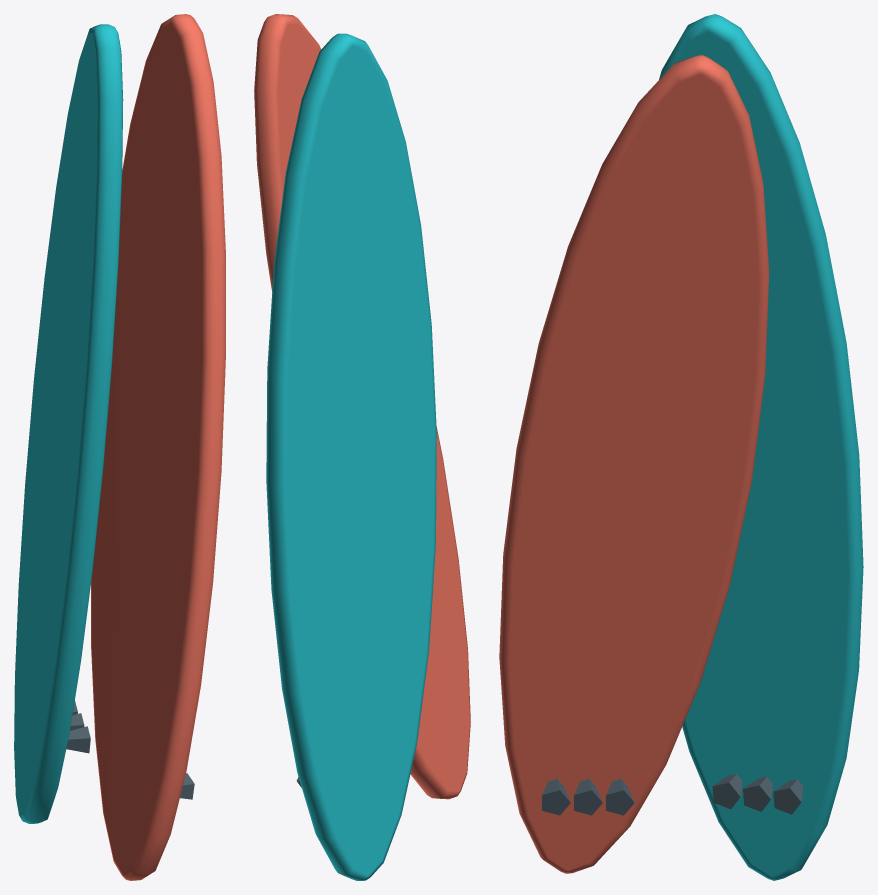
The model's file is tablas.fbx.
3 renders of one model, left to right at view 1: azimuth 30°, elevation 25°; view 2: azimuth 150°, elevation 25°; view 3: azimuth 270°, elevation 25°, orthographic. The views are drawn at different scales.
Visible parts, largest first — view 1: Tabla 2, Tabla 1, Aleta Tabla 1 1; view 2: Tabla 1, Tabla 2; view 3: Tabla 2, Tabla 1, Aleta Tabla 1 3, Aleta Tabla 1 1, Aleta Tabla 1 2, Aleta Tabla 2 1, Aleta Tabla 2 2, Aleta Tabla 2 3.
Part boxes in pixels (x1,y1,x2,y2): Tabla 2: (91,14,225,880); Tabla 1: (14,24,123,823); Aleta Tabla 1 1: (66,726,90,753); Tabla 1: (266,33,436,880); Tabla 2: (254,14,470,799); Tabla 2: (499,55,769,873); Tabla 1: (659,14,863,880); Aleta Tabla 1 3: (773,779,803,814); Aleta Tabla 1 1: (712,774,742,808); Aleta Tabla 1 2: (743,776,772,811); Aleta Tabla 2 1: (542,779,570,815); Aleta Tabla 2 2: (574,779,602,815); Aleta Tabla 2 3: (606,779,634,815).
Bounding box in the file's own units: 65.16 × 337 × 126.
